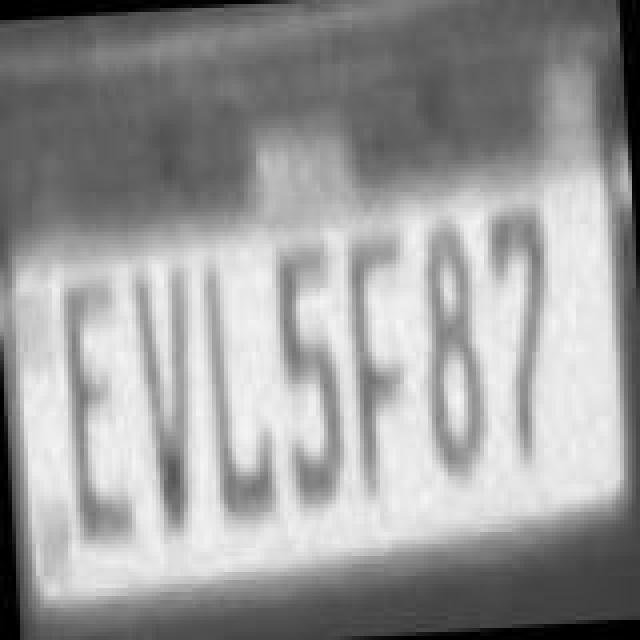5: (270, 240, 354, 512)
7: (484, 206, 564, 466)
8: (414, 220, 498, 484)
E: (56, 274, 136, 542)
F: (342, 228, 426, 500)
L: (200, 258, 280, 526)
V: (128, 266, 208, 534)
